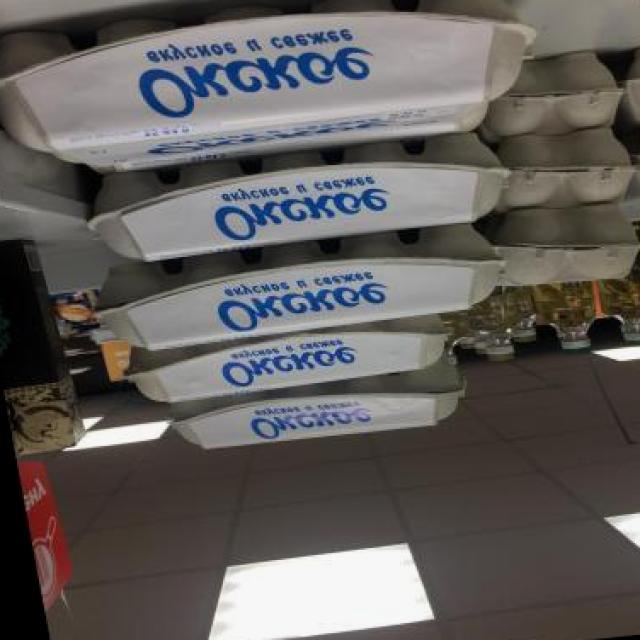egg: (0, 0, 553, 174), (69, 126, 520, 268), (90, 222, 518, 352), (120, 314, 457, 406), (157, 366, 473, 456), (483, 196, 640, 304), (477, 49, 633, 142), (485, 124, 640, 211), (454, 282, 544, 372), (584, 218, 640, 358), (528, 278, 607, 364)
